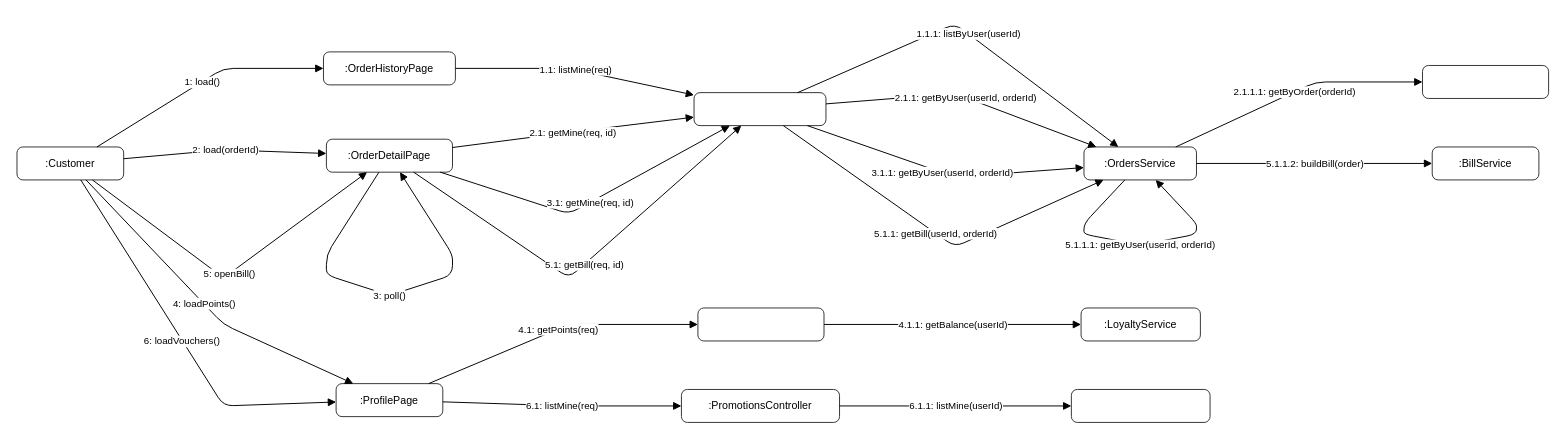
The diagram is 1566 pixels wide and 439 high, and some of its shapes have lost their labels. Each missing label, with the box of its shape:
:FeedbackService: (1422, 65, 1549, 98)
:OrdersController: (693, 92, 826, 126)
:PromotionsService: (1070, 388, 1210, 422)
:UsersController: (697, 307, 824, 341)
